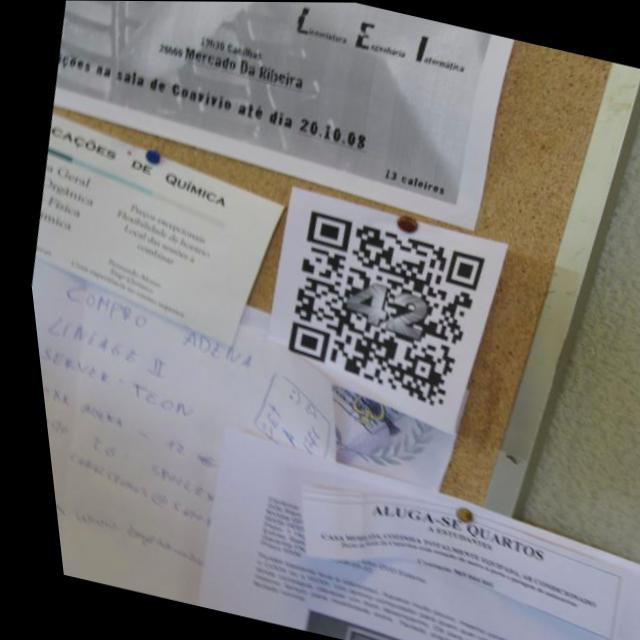qrcode: (263, 210, 495, 415)
